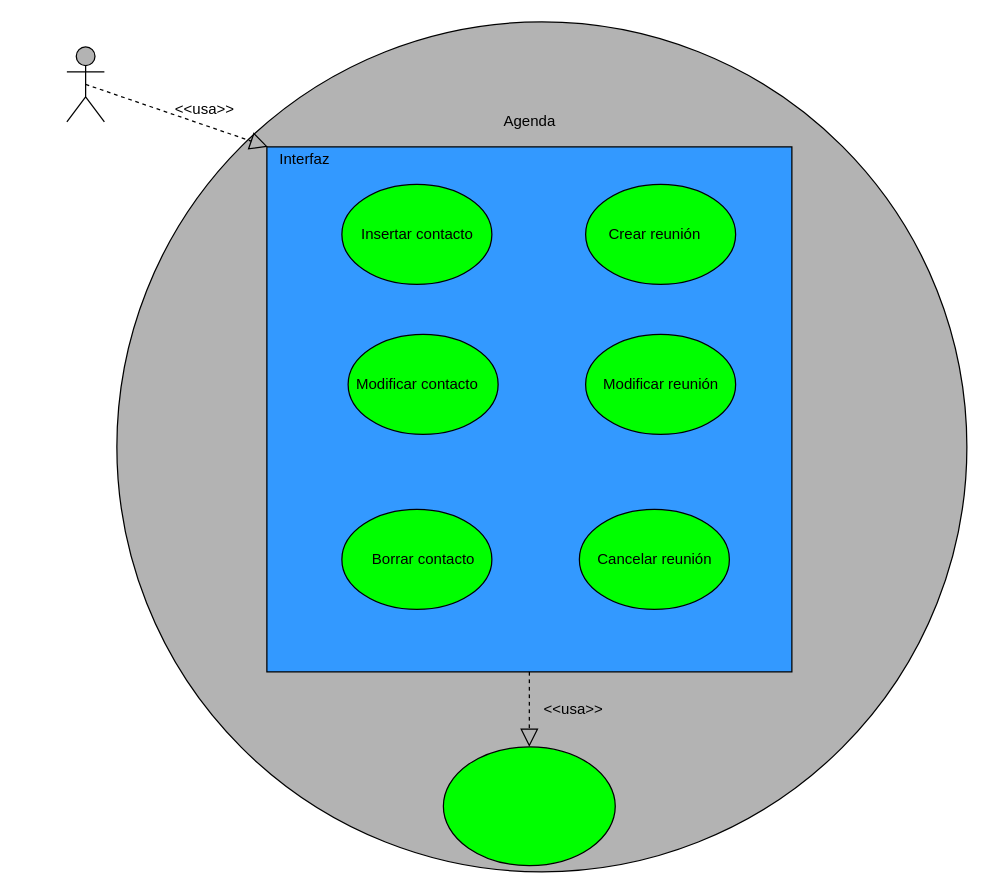
Some shapes in this 989 by 894 pixel diagram are drawn without their labels. Each missing label, with the centre of its shape:
Consultar información: point (528, 806)
Persona productiva: point (85, 84)
